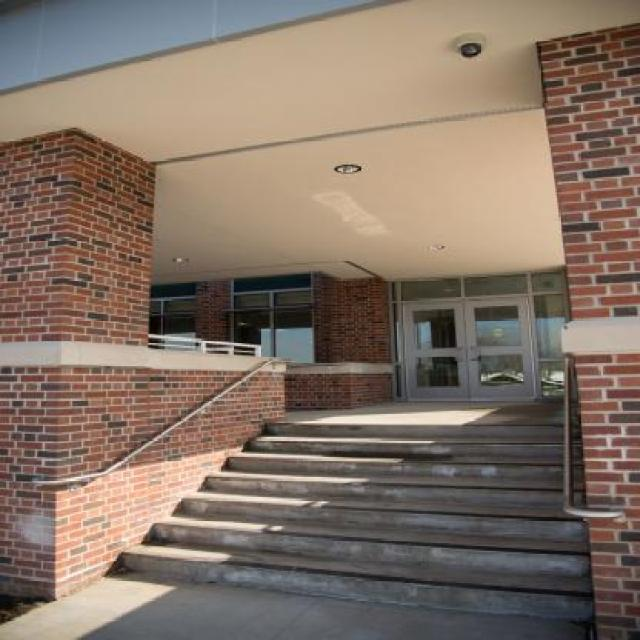stair: (117, 420, 591, 622)
